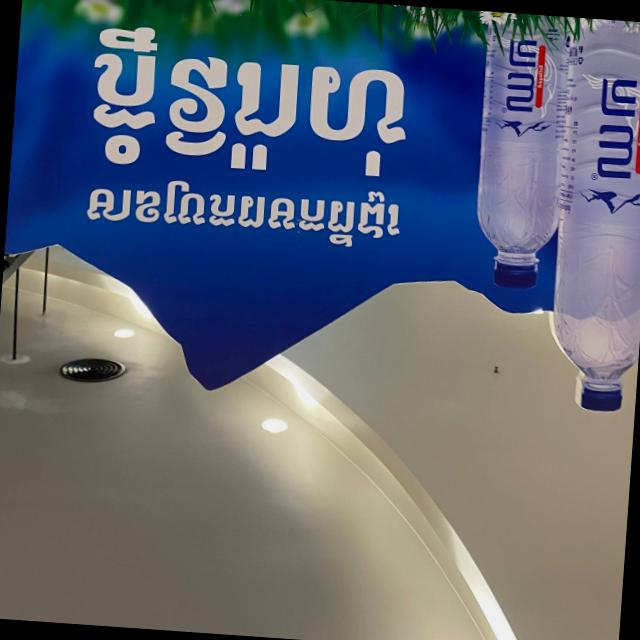Yolov11_80vkh: (83, 19, 414, 181), (84, 168, 405, 255), (590, 71, 640, 183), (498, 34, 546, 119)
